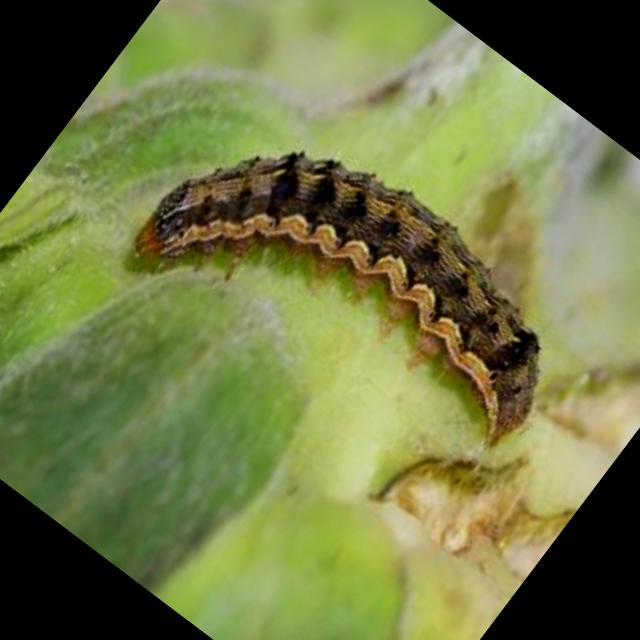Cotton bollworm: (91, 26, 640, 558)
